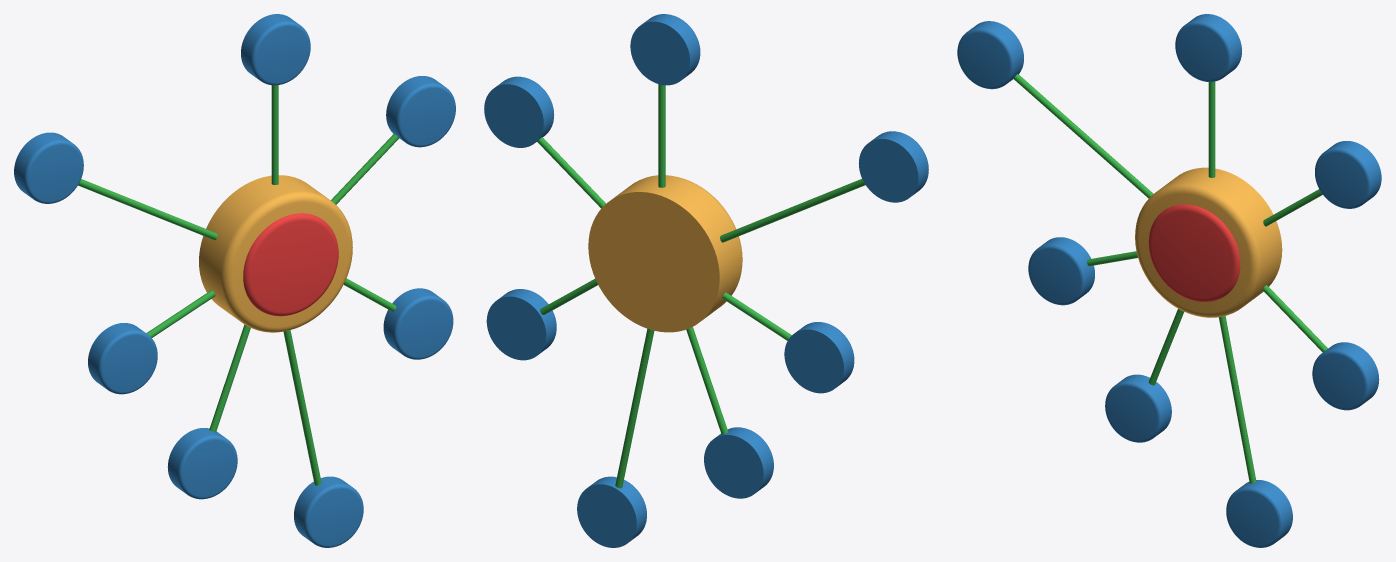
Rendered from API.glb.
3 views of the same model, side by side, from view 1: azimuth 30°, elevation 25°; view 2: azimuth 150°, elevation 25°; view 3: azimuth 330°, elevation 25° (orthographic). The views are drawn at different scales.
Visible parts, largest first — view 1: Cylinder.062, Cylinder.063, Cylinder.070, Cylinder.064, Cylinder.069, Cylinder.065, Cylinder.068, Cylinder.066, Cylinder.067, Cylinder.074, Cylinder.075, Cylinder.077 (+3 smaller); view 2: Cylinder.062, Cylinder.070, Cylinder.064, Cylinder.069, Cylinder.065, Cylinder.068, Cylinder.066, Cylinder.067, Cylinder.074, Cylinder.075, Cylinder.077, Cylinder.071 (+2 smaller); view 3: Cylinder.062, Cylinder.063, Cylinder.066, Cylinder.070, Cylinder.064, Cylinder.065, Cylinder.067, Cylinder.069, Cylinder.068, Cylinder.075, Cylinder.074, Cylinder.071 (+2 smaller).
Boxes of the visible parts, x1,y1,x2,y2 form: Cylinder.062: (199, 175, 352, 332); Cylinder.063: (243, 213, 338, 316); Cylinder.070: (14, 132, 83, 203); Cylinder.064: (241, 14, 310, 85); Cylinder.069: (88, 323, 157, 394); Cylinder.065: (386, 76, 455, 147); Cylinder.068: (167, 428, 237, 499); Cylinder.066: (383, 288, 453, 359); Cylinder.067: (294, 476, 363, 547); Cylinder.074: (283, 330, 321, 485); Cylinder.075: (78, 179, 217, 240); Cylinder.077: (209, 324, 250, 432); Cylinder.062: (588, 175, 742, 332); Cylinder.070: (858, 131, 928, 202); Cylinder.064: (630, 14, 700, 85); Cylinder.069: (784, 322, 854, 393); Cylinder.065: (484, 76, 553, 147); Cylinder.068: (704, 427, 773, 498); Cylinder.066: (486, 289, 556, 360); Cylinder.067: (577, 476, 646, 547); Cylinder.074: (615, 329, 654, 488); Cylinder.075: (720, 179, 865, 242); Cylinder.077: (686, 327, 728, 434); Cylinder.071: (658, 84, 665, 187); Cylinder.062: (1135, 167, 1282, 317); Cylinder.063: (1148, 204, 1240, 302); Cylinder.066: (1312, 342, 1379, 410); Cylinder.070: (957, 21, 1023, 89); Cylinder.064: (1175, 14, 1241, 81); Cylinder.065: (1315, 141, 1381, 208); Cylinder.067: (1226, 480, 1292, 547); Cylinder.069: (1028, 237, 1094, 305); Cylinder.068: (1105, 374, 1171, 442); Cylinder.075: (1013, 74, 1153, 198); Cylinder.074: (1219, 316, 1256, 483); Cylinder.071: (1208, 81, 1215, 177).
Bounding box in the file's own units: 4.54 × 5.39 × 0.5294.
